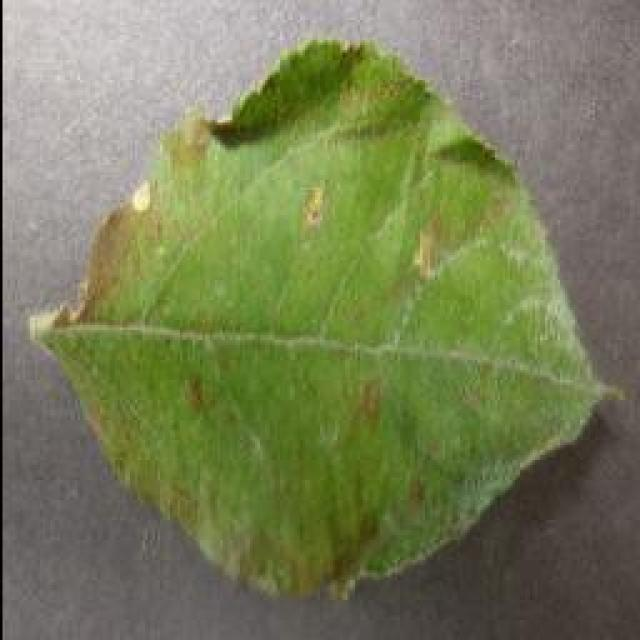apple cedar apple rust: (28, 35, 622, 603)
